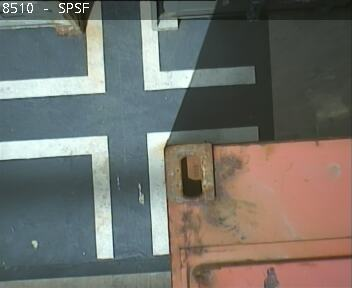groundmarker_1: (1, 123, 258, 256), (1, 1, 255, 100)
